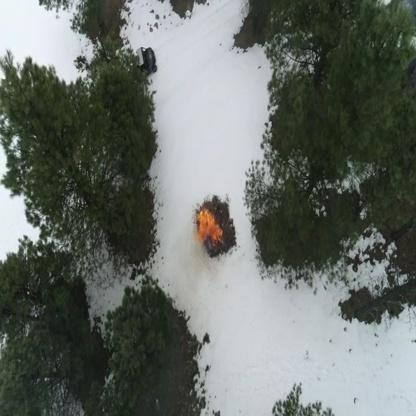Fire: (195, 206, 223, 249)
